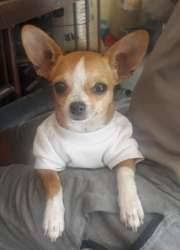chihuahua: (15, 21, 161, 244)
